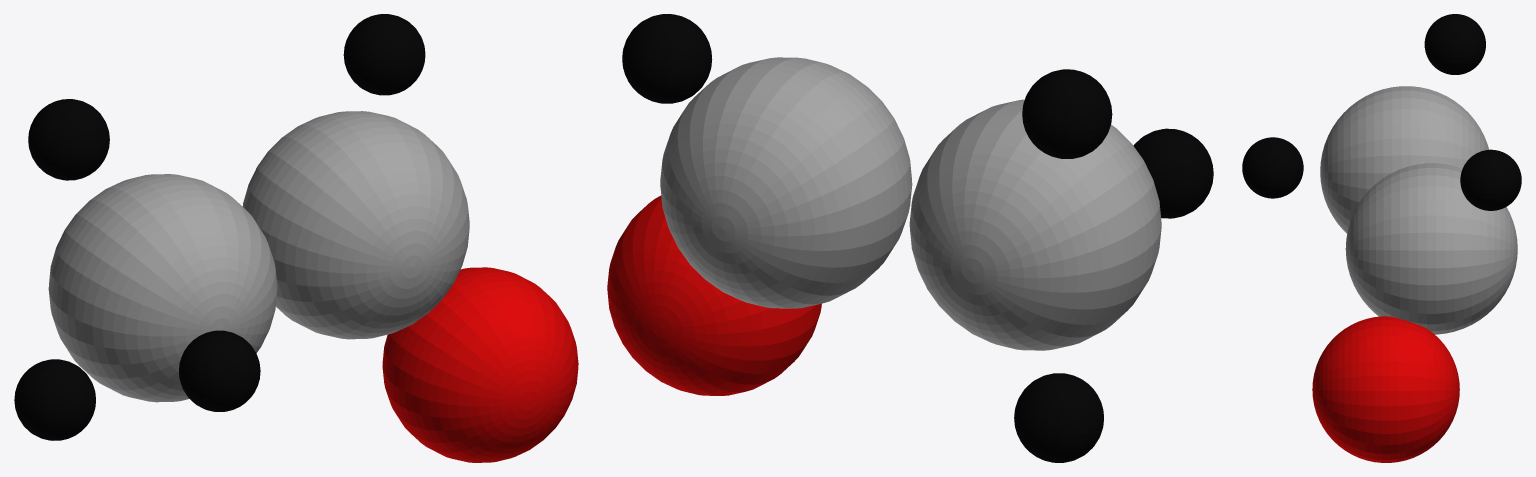
Rendered from Acetaldehyde.glb.
3 renders of one model, left to right at view 1: azimuth 30°, elevation 25°; view 2: azimuth 150°, elevation 25°; view 3: azimuth 270°, elevation 25°, orthographic. The views are drawn at different scales.
Visible parts, largest first — view 1: world; view 2: world; view 3: world.
Boxes of the visible parts, x1=… form: world: x1=14, y1=14, x2=578, y2=462; world: x1=607, y1=14, x2=1213, y2=462; world: x1=1242, y1=14, x2=1521, y2=462.
Size of the model in its own units: 3.45 by 2.74 by 2.28.
